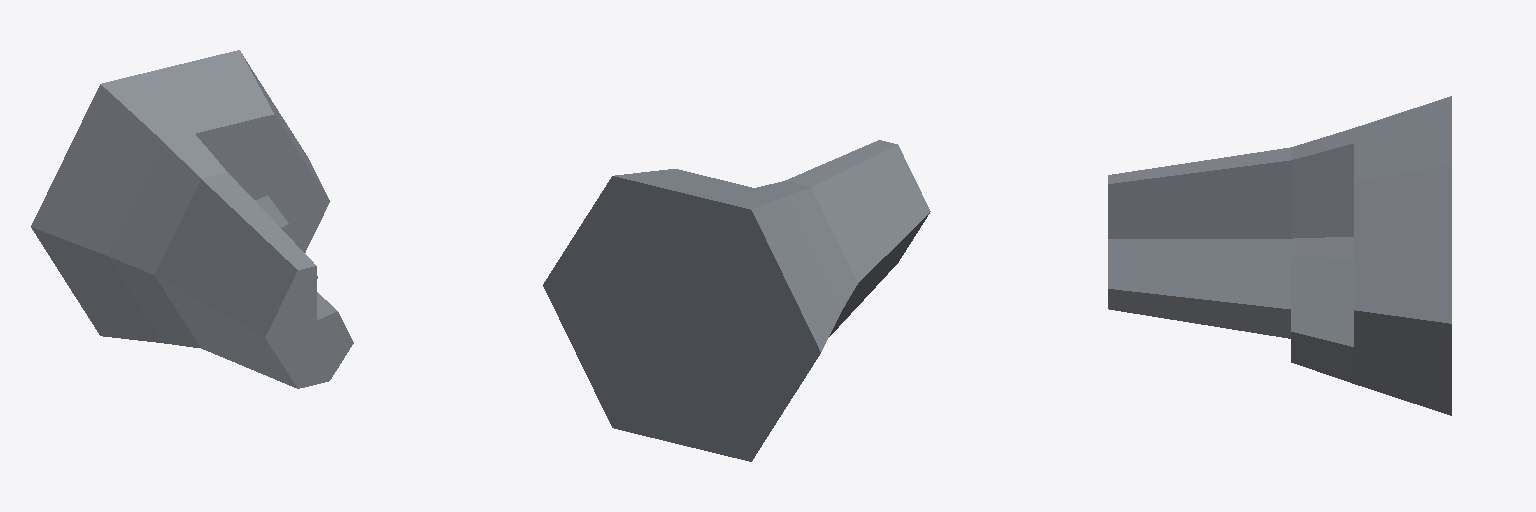
Rendered from rock7.obj.
3 views of the same model, side by side, from view 1: azimuth 30°, elevation 25°; view 2: azimuth 150°, elevation 25°; view 3: azimuth 270°, elevation 25° (orthographic).
Visible parts, largest first — view 1: Mesh1_Tall_Rock_3_Model; view 2: Mesh1_Tall_Rock_3_Model; view 3: Mesh1_Tall_Rock_3_Model.
Boxes of the visible parts, <box> form: Mesh1_Tall_Rock_3_Model: <box>31,50,353,388</box>; Mesh1_Tall_Rock_3_Model: <box>543,140,930,461</box>; Mesh1_Tall_Rock_3_Model: <box>1108,96,1451,415</box>.
Size of the model in its own units: 15.45 by 13.38 by 16.55.